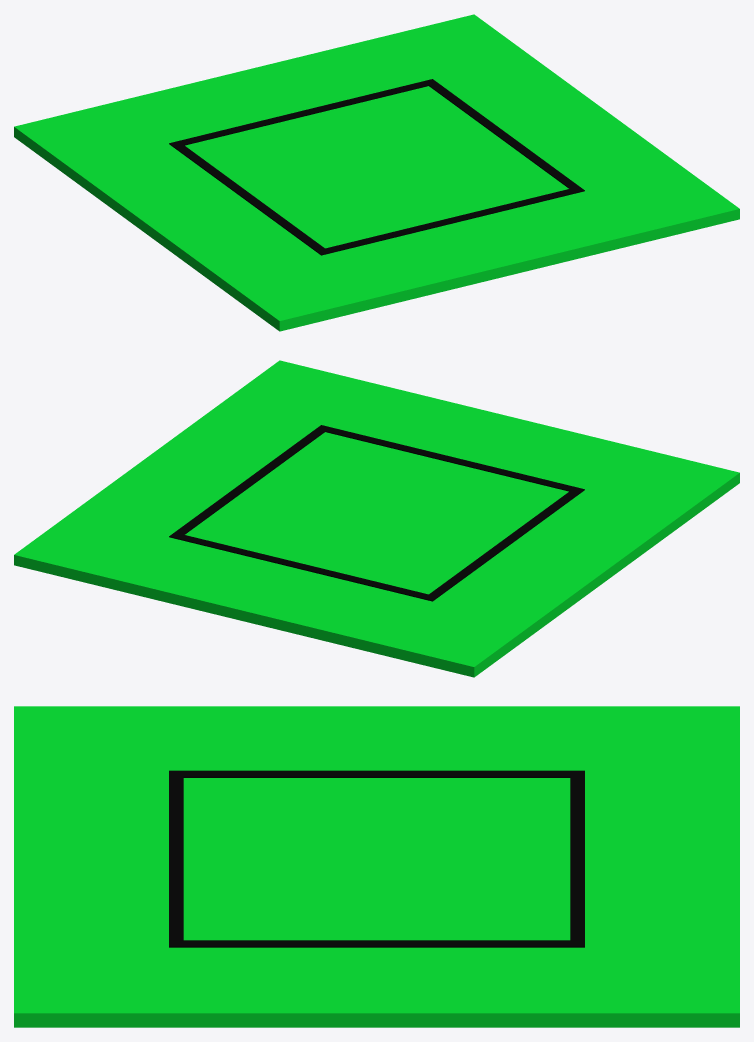
The picture shows the model from 3 angles, top to bottom: view 1: azimuth 30°, elevation 25°; view 2: azimuth 150°, elevation 25°; view 3: azimuth 270°, elevation 25°; orthographic projection. The views are drawn at different scales.
Visible parts, largest first — view 1: testcircuit; view 2: testcircuit; view 3: testcircuit.
Part boxes in pixels (x1,y1,x2,y2): testcircuit: [14, 14, 739, 331]; testcircuit: [14, 360, 739, 677]; testcircuit: [14, 706, 739, 1027].
Bounding box in the file's own units: 10000 × 237 × 10000.
